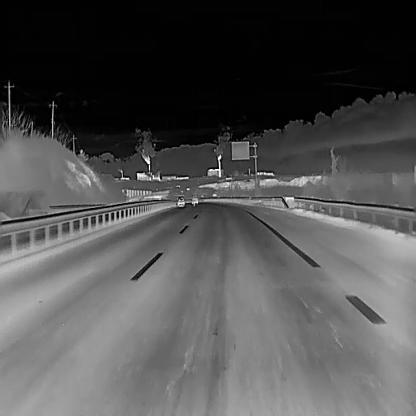car: (176, 195, 185, 207), (191, 193, 199, 204)
